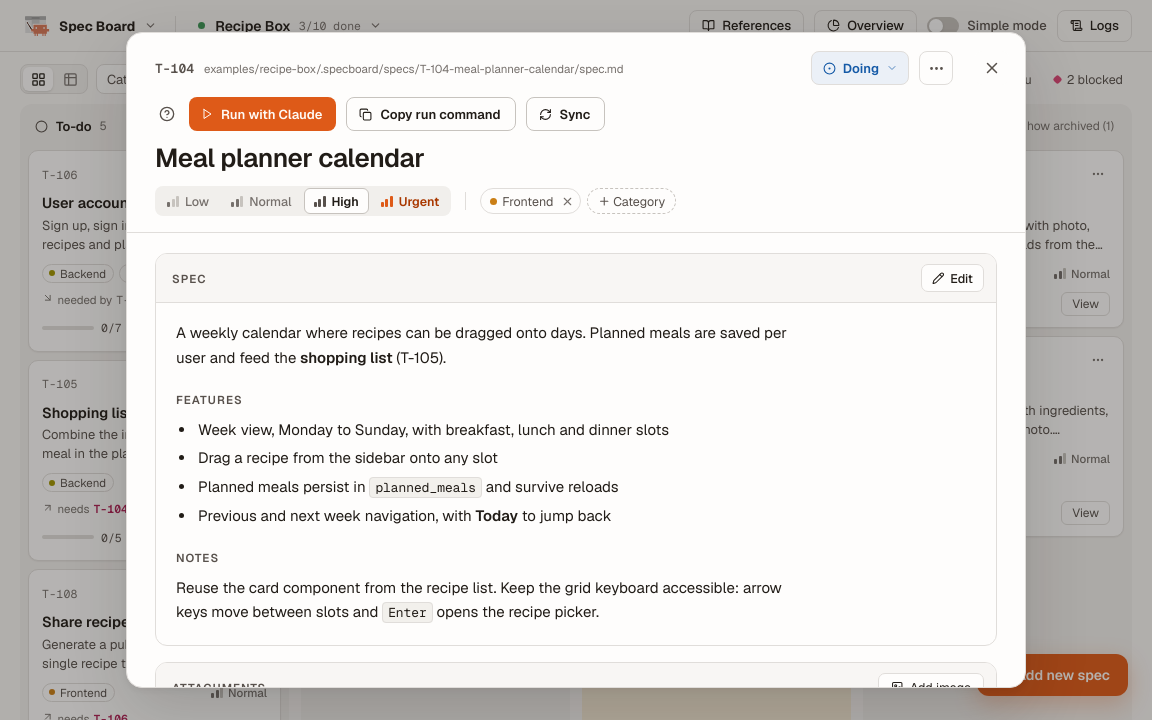
Scenario: toasts come from live run events, once each › own start() and the socket event together give one toast
Click the button "Run with Claude" at (263,114), box [189,97,336,131]
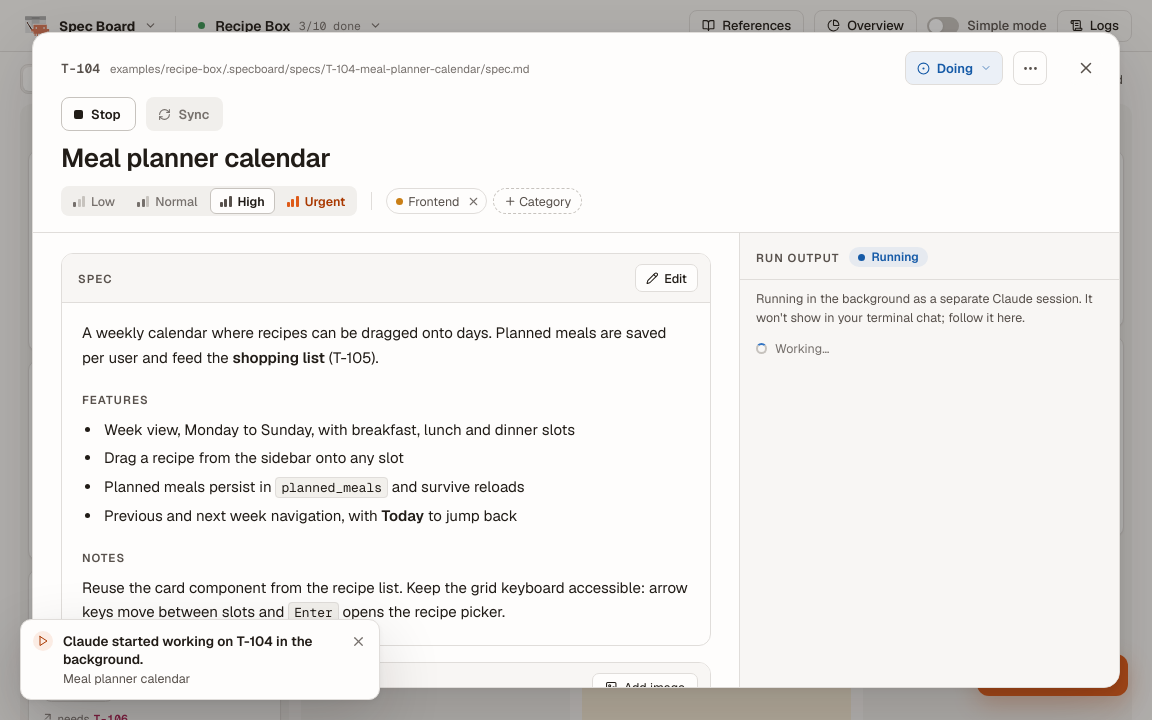
expect the text "Claude started working on T-104 in the background." is shown once: met, box [63,632,337,668]
